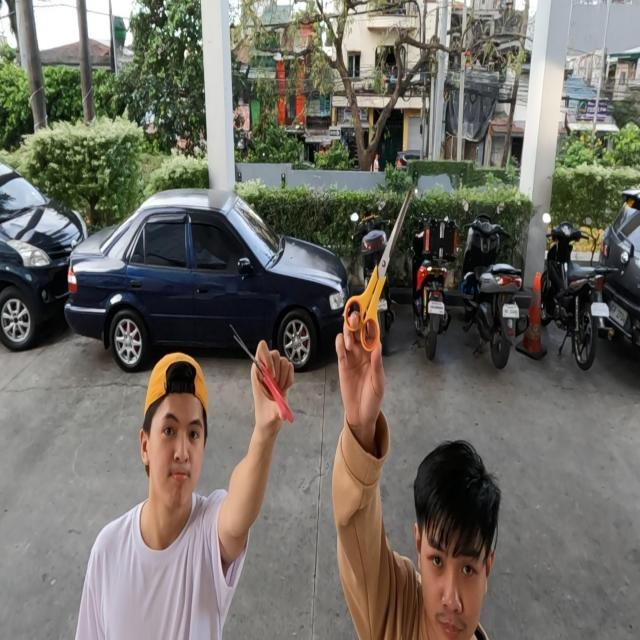scissor: (344, 185, 413, 352), (229, 322, 295, 424)
